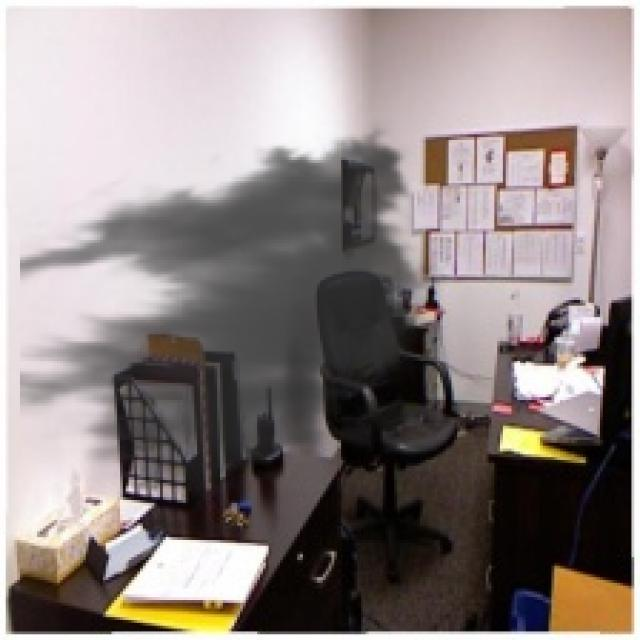smoke: (20, 117, 446, 512)
